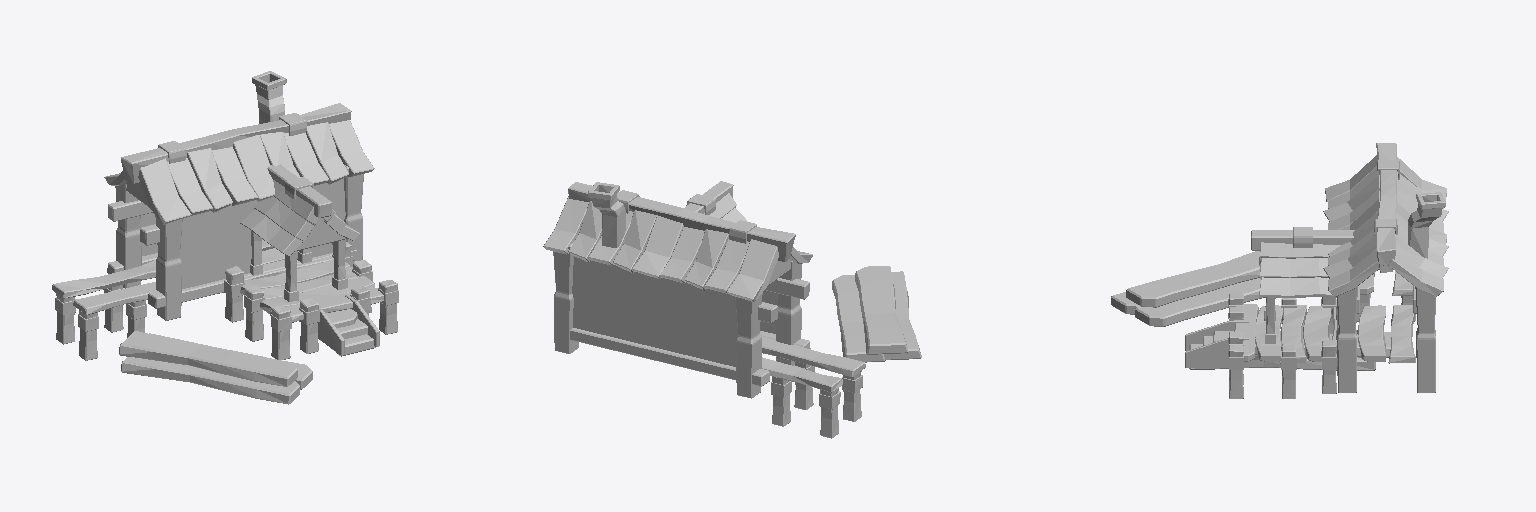
File: SM_Sawmill.obj
The picture shows the model from 3 angles: view 1: azimuth 30°, elevation 25°; view 2: azimuth 150°, elevation 25°; view 3: azimuth 270°, elevation 25°; orthographic projection.
Visible parts, largest first — view 1: sawmill_roof_Mesh.001; view 2: sawmill_roof_Mesh.001; view 3: sawmill_roof_Mesh.001.
Boxes of the visible parts, <box> form: sawmill_roof_Mesh.001: <box>52,71,398,404</box>; sawmill_roof_Mesh.001: <box>543,181,921,438</box>; sawmill_roof_Mesh.001: <box>1111,143,1448,398</box>.
Bounding box in the file's own units: 8.05 × 5.39 × 8.15.